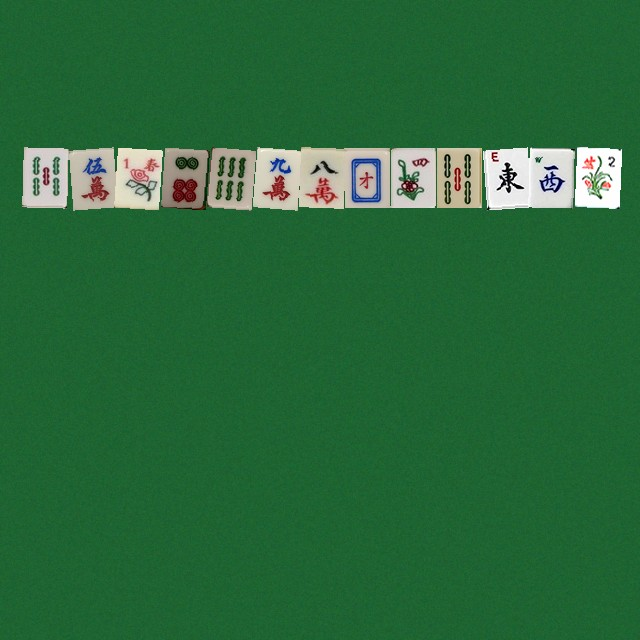tile: (22, 147, 67, 207), (68, 147, 113, 207), (114, 147, 159, 207), (160, 147, 205, 207), (206, 147, 251, 207), (252, 147, 297, 207), (298, 147, 343, 207), (344, 147, 389, 207), (390, 147, 435, 207), (436, 147, 481, 207), (482, 147, 527, 207), (528, 147, 573, 207), (574, 147, 619, 207)
